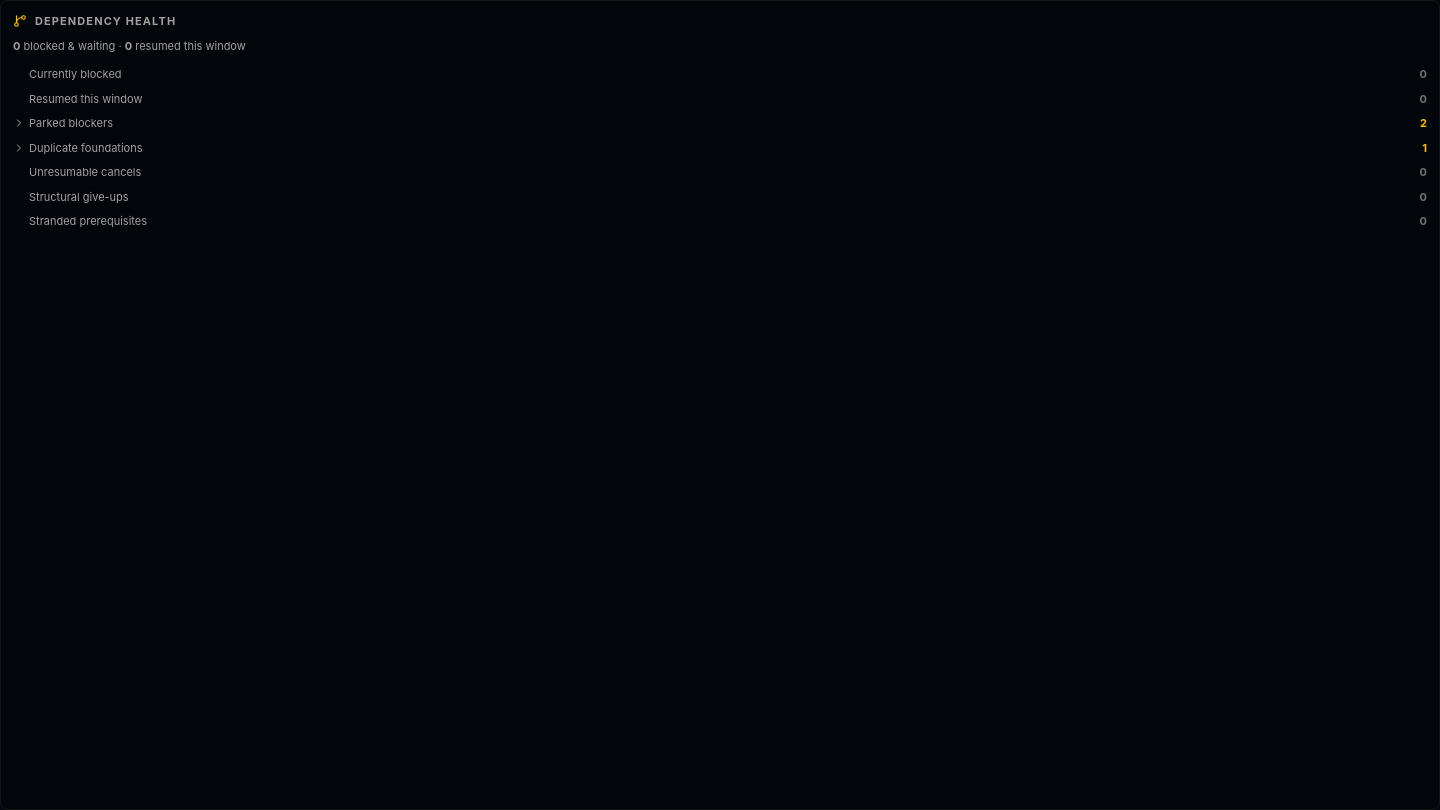
Test: DependencyHealthCard › drills down to the capped task list on click
Expected: the text "Parked alpha" is not shown
Click the text "Parked blockers" at (63, 123), box [13,115,113,132]
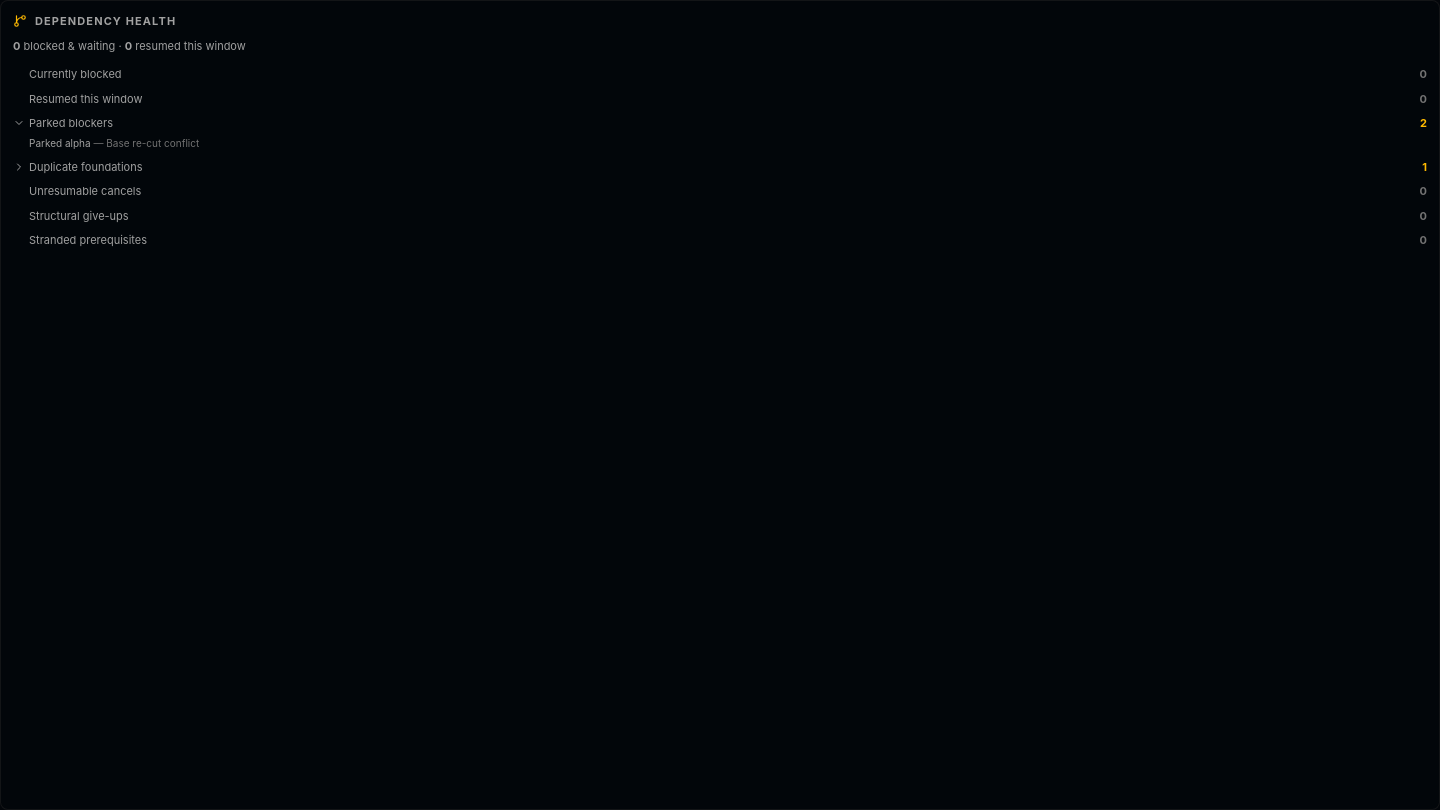
Expected: the text "Parked alpha" is shown, [29,136,91,148]
Expected: the list item "Parked alpha — Base re-cut conflict" is shown, [29,136,199,148]
